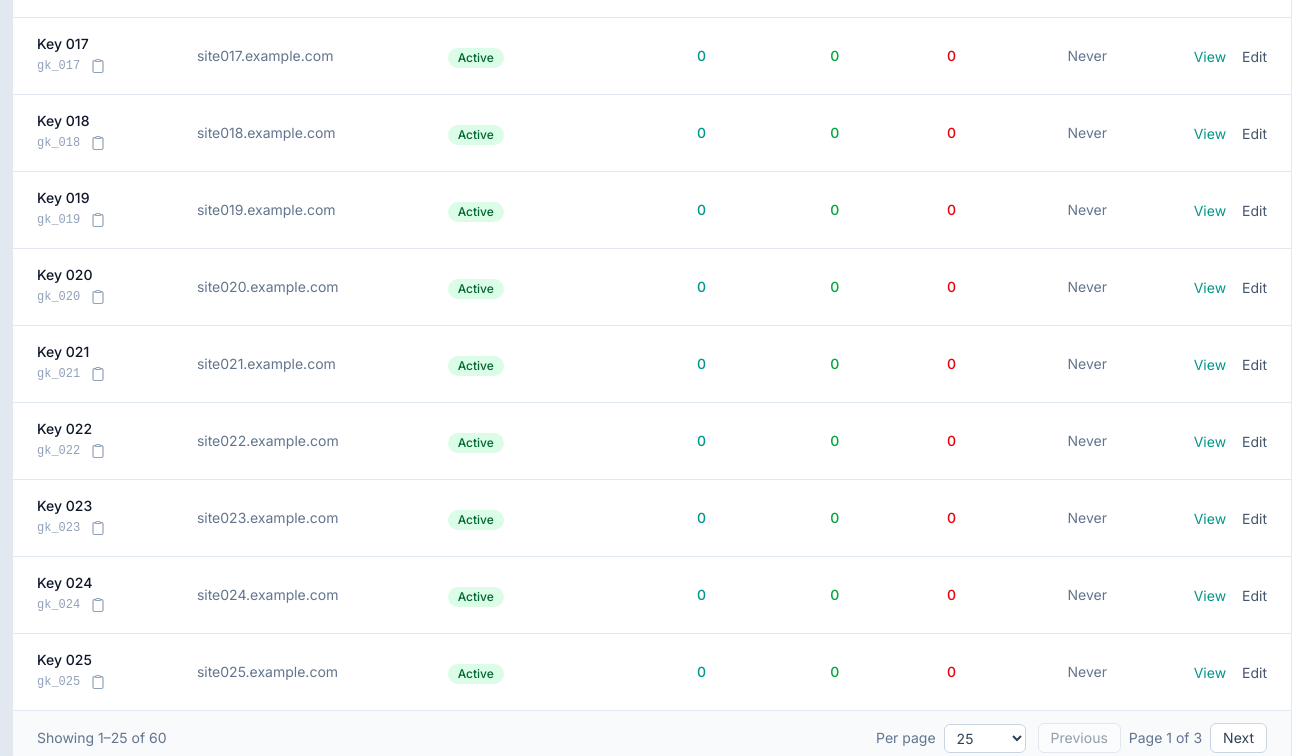
Scenario: ApiKeysView › resets to the first page when the search changes
This screenshot has width=1292, height=756.
(page scrolled)
Click the button with aria-label "Next page".
click(1239, 738)  # box [1210, 723, 1267, 753]
(page scrolled)
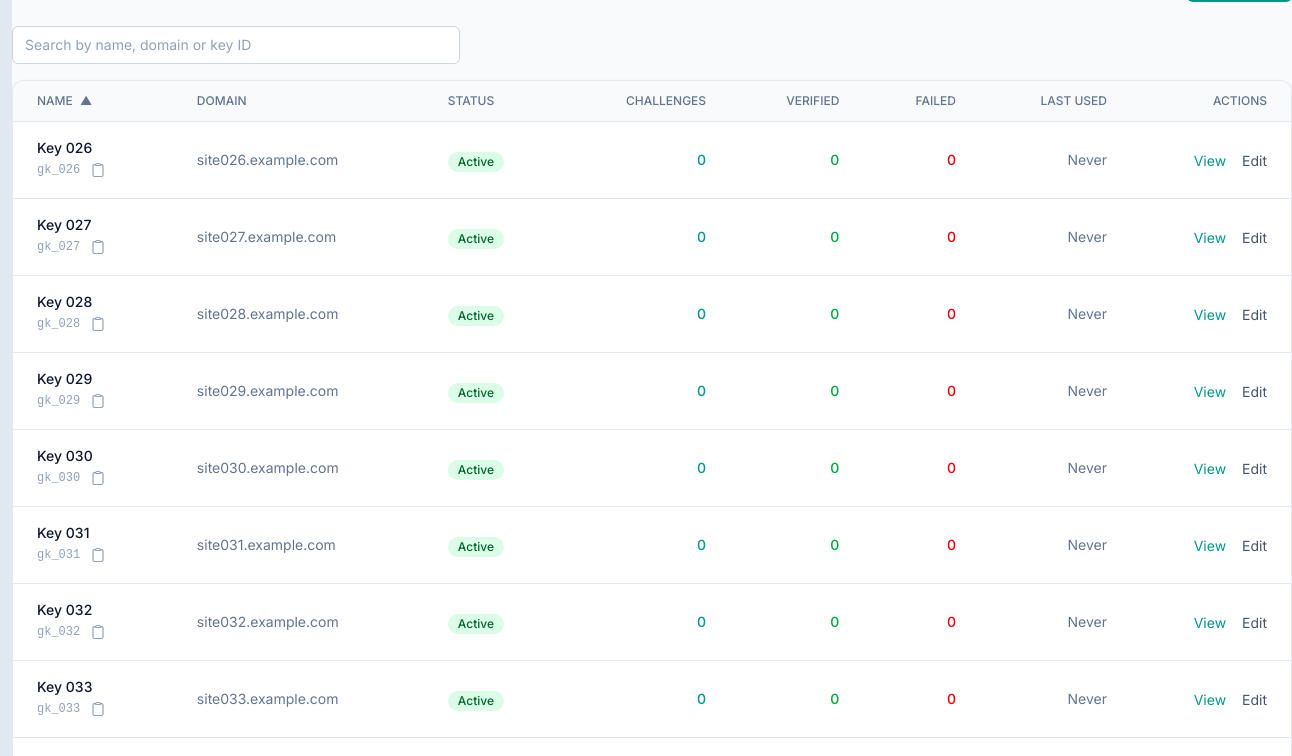
Type "Key 0" into the search field with id "key-search".
click(236, 45); type("Key 0")  # box [12, 26, 460, 64]
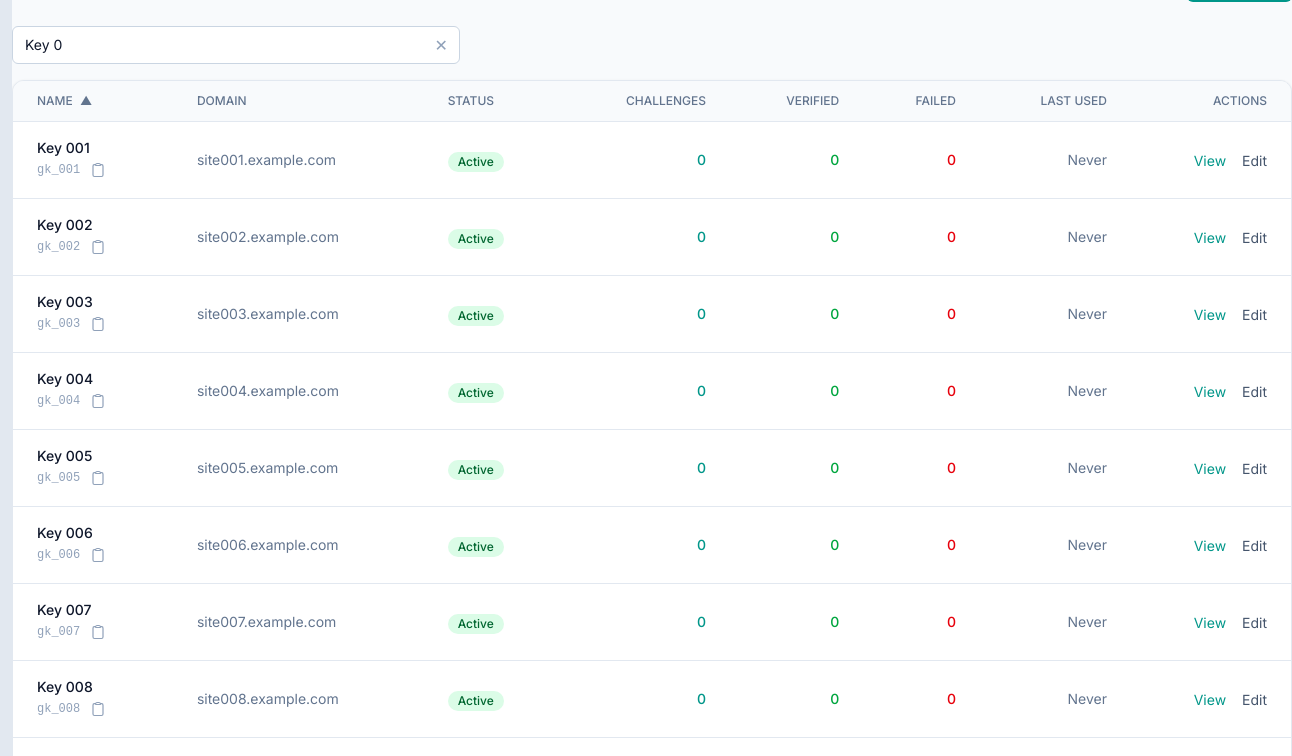
Now the row that starts with "Key 001" is shown, box [37, 139, 90, 156]
